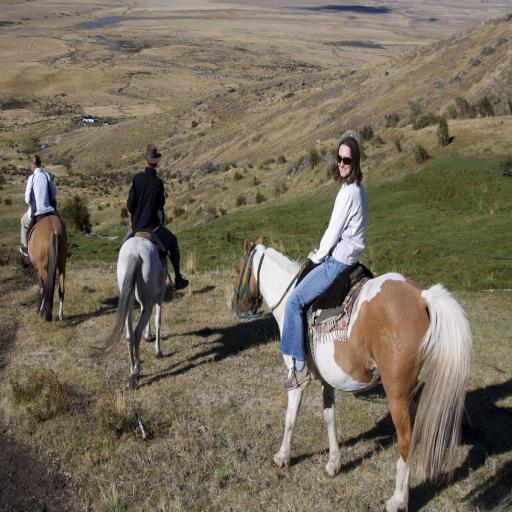horse: (230, 232, 473, 512), (86, 192, 167, 390), (26, 174, 69, 323)
